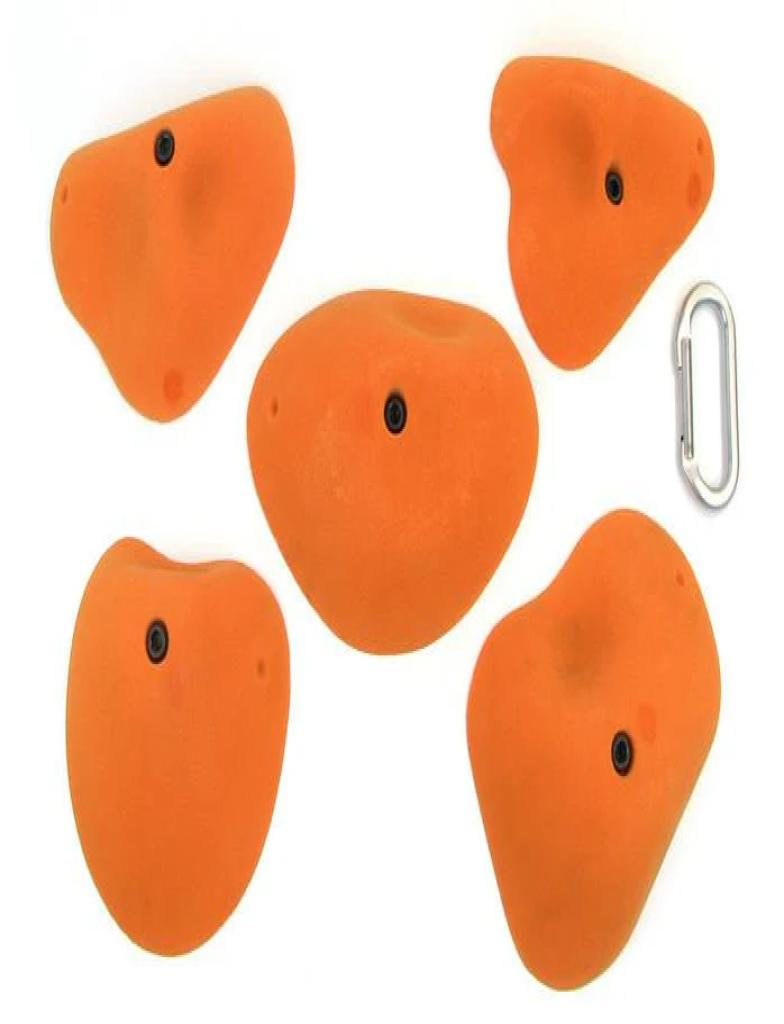sloper: (467, 509, 720, 987), (247, 291, 538, 653), (67, 539, 289, 955), (51, 88, 294, 420), (491, 60, 713, 369)
